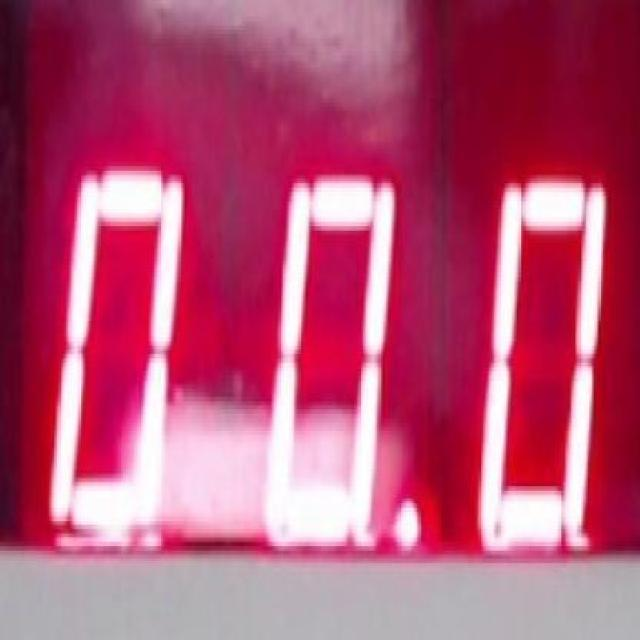.: (390, 499, 424, 554)
0: (50, 167, 184, 545), (264, 175, 398, 548), (477, 173, 607, 549)
